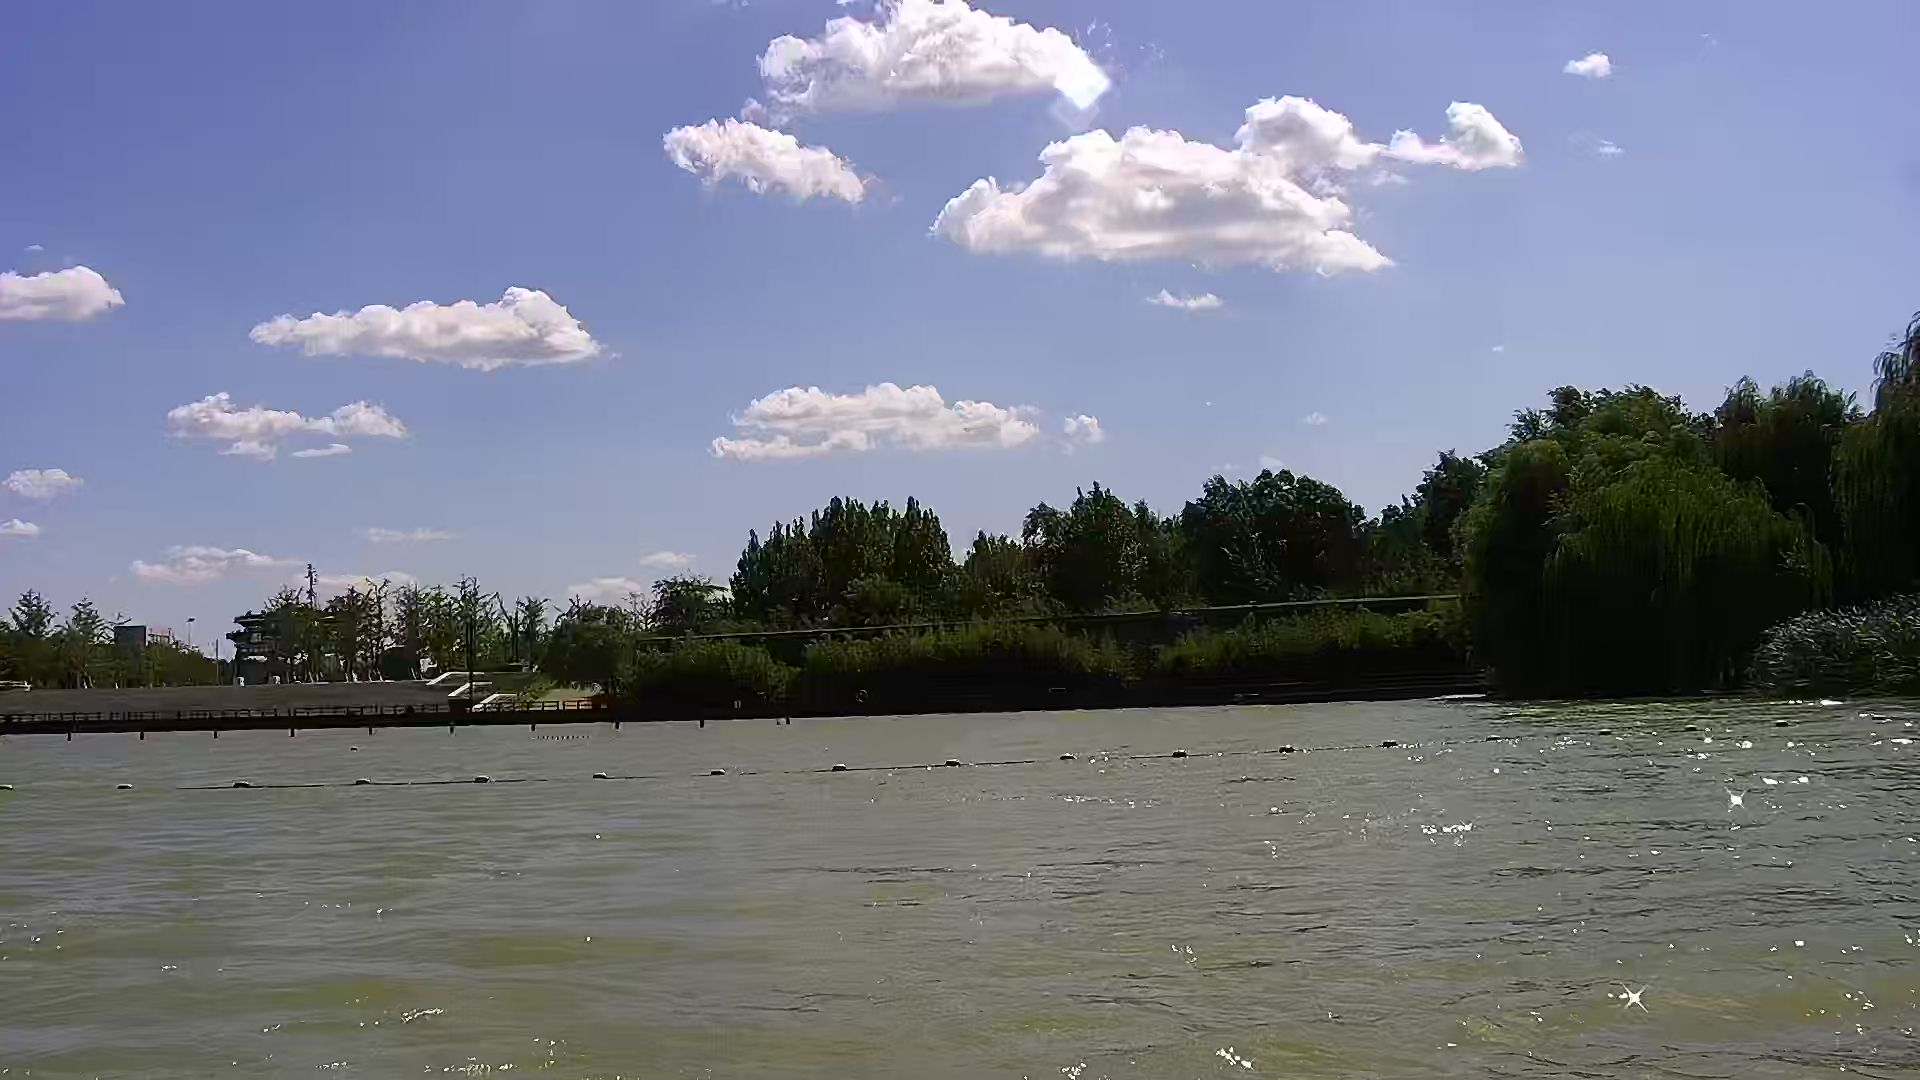ball: (578, 764, 624, 789), (465, 765, 498, 795), (827, 754, 861, 781), (225, 771, 261, 795), (345, 771, 385, 793), (1051, 745, 1085, 769), (1166, 741, 1197, 765), (935, 752, 978, 767), (700, 762, 735, 782), (1275, 742, 1307, 762), (1375, 728, 1400, 752)
harbor: (1, 687, 611, 725)
